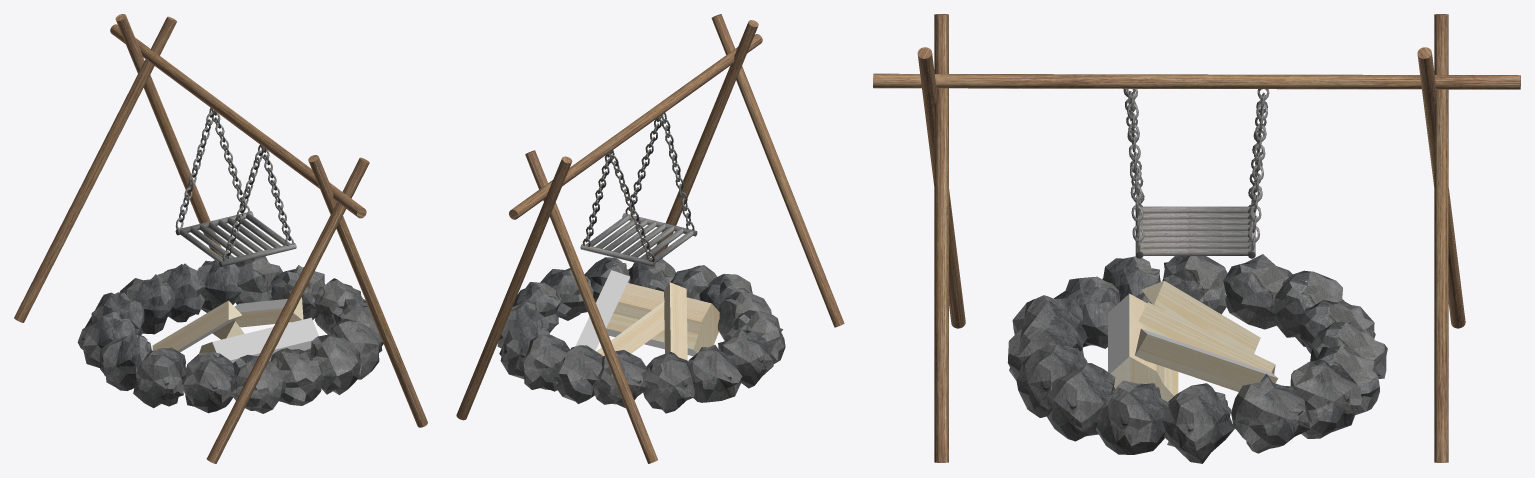
The model's file is CampfireSet.fbx.
3 renders of one model, left to right at view 1: azimuth 30°, elevation 25°; view 2: azimuth 150°, elevation 25°; view 3: azimuth 270°, elevation 25°, orthographic. The views are drawn at different scales.
Visible parts, largest first — view 1: Cylinder.003, Cylinder.001, Cylinder, Cylinder.004, Icosphere.010, Icosphere.009, Cylinder.002, Cube, Icosphere.013, Icosphere.004, Icosphere.003, Icosphere.014 (+13 smaller); view 2: Cylinder.001, Cylinder.003, Cube, Cylinder.002, Cylinder.004, Cylinder, Icosphere.001, Icosphere.002, Icosphere, Icosphere.003, Icosphere.015, Icosphere.014 (+14 smaller); view 3: Cylinder.004, Cylinder.002, Cylinder, Icosphere.011, Icosphere.006, Icosphere.007, Icosphere.008, Icosphere.005, Cube.001, Cube, Icosphere.002, Icosphere.013 (+19 smaller).
Boxes of the visible parts, x1,y1,x2,y2 form: Cylinder.003: (14,16,176,322); Cylinder.001: (206,157,369,463); Cylinder: (308,155,427,427); Cylinder.004: (110,24,366,218); Icosphere.010: (181,352,234,413); Icosphere.009: (133,347,186,408); Cylinder.002: (115,14,221,256); Cube: (199,317,318,362); Icosphere.013: (304,334,360,394); Icosphere.004: (270,348,324,405); Icosphere.003: (100,332,151,390); Icosphere.014: (119,274,175,334); Cylinder.001: (711,14,844,327); Cylinder.003: (525,150,657,463); Cube: (606,283,719,356); Cylinder.002: (456,156,572,420); Cylinder.004: (509,34,762,219); Cylinder: (651,20,758,258); Icosphere.001: (642,352,694,413); Icosphere.002: (688,344,742,402); Icosphere: (554,345,602,403); Icosphere.003: (718,329,773,388); Icosphere.015: (518,334,569,391); Icosphere.014: (593,350,647,408); Cylinder.004: (873,73,1520,89); Cylinder.002: (1434,14,1448,462); Cylinder: (934,14,948,462); Icosphere.011: (1231,373,1312,453); Icosphere.006: (1095,380,1169,454); Icosphere.007: (1162,383,1234,463); Icosphere.008: (1290,359,1362,438); Icosphere.005: (1047,363,1115,441); Cube.001: (1135,328,1277,391); Cube: (1108,293,1178,401); Icosphere.002: (1223,254,1292,329); Icosphere.013: (1016,344,1087,417).
Size of the model in its own units: 943 by 984 by 1505.
